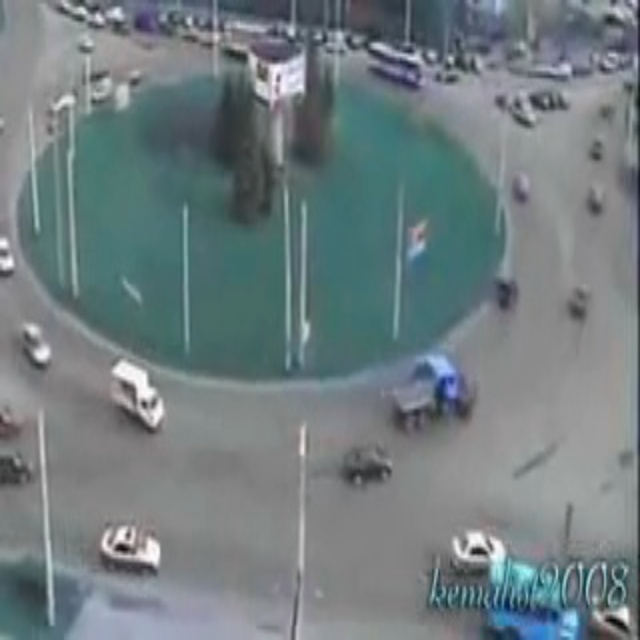acc: (375, 354, 475, 433)
